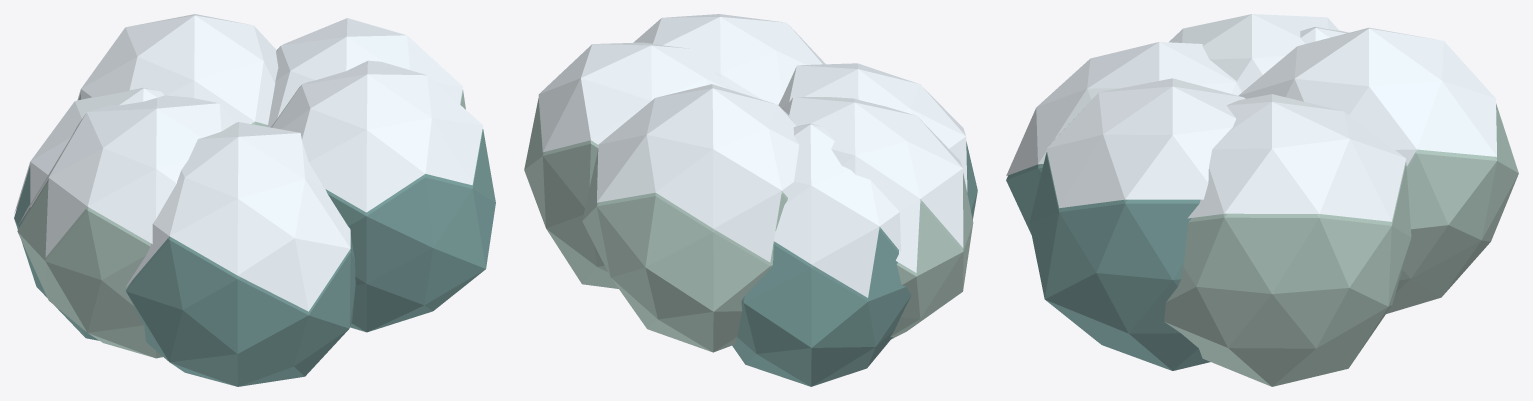
Rendered from plant-bush-snowy.glb.
3 renders of one model, left to right at view 1: azimuth 30°, elevation 25°; view 2: azimuth 150°, elevation 25°; view 3: azimuth 270°, elevation 25°, orthographic. The views are drawn at different scales.
Parts seen in each view (by area): view 1: plant-bush-kit-snowy-top, plant-bush-kit-snowy-green, plant-bush-kit-snowy-leaf; view 2: plant-bush-kit-snowy-top, plant-bush-kit-snowy-leaf, plant-bush-kit-snowy-green; view 3: plant-bush-kit-snowy-top, plant-bush-kit-snowy-leaf, plant-bush-kit-snowy-green.
Part boxes in pixels (left/top/right/bottom): plant-bush-kit-snowy-top: left=14, top=14, right=483, bottom=311; plant-bush-kit-snowy-green: left=14, top=129, right=495, bottom=386; plant-bush-kit-snowy-leaf: left=17, top=90, right=465, bottom=358; plant-bush-kit-snowy-top: left=538, top=14, right=967, bottom=297; plant-bush-kit-snowy-leaf: left=524, top=98, right=973, bottom=352; plant-bush-kit-snowy-green: left=732, top=141, right=977, bottom=386; plant-bush-kit-snowy-top: left=1006, top=14, right=1496, bottom=221; plant-bush-kit-snowy-leaf: left=1164, top=103, right=1518, bottom=386; plant-bush-kit-snowy-green: left=1006, top=152, right=1210, bottom=370.
Bounding box in the file's own units: 1.79 × 1.16 × 1.75.
